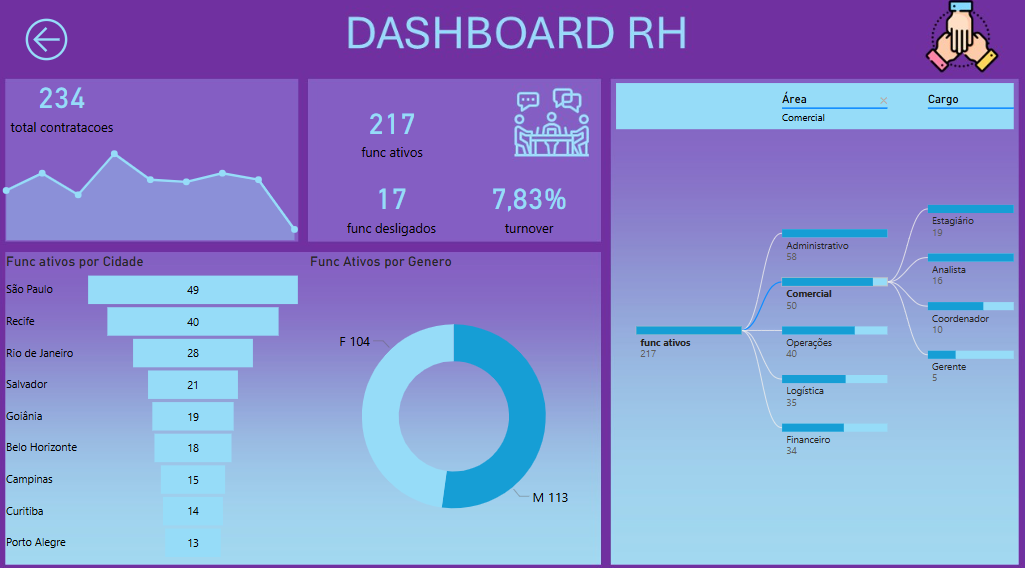

The page's visual inventory and layout, read from the dashboard file:
{"tool":"powerbi","page":{"name":"Dashboard","canvas":[1280,720],"ordinal":0},"visuals":[{"type":"card","fields":{"Values":["medidas.total contratacoes"]},"box":[10.3,90,147.8,93.8],"z":0},{"type":"card","fields":{"Values":["medidas.func ativos"]},"box":[372.5,107.1,237,121.9],"z":1},{"type":"card","fields":{"Values":["medidas.func desligados"]},"box":[385.5,214.6,210.8,93.8],"z":2},{"type":"card","fields":{"Values":["medidas.turnover"]},"box":[580.9,217.2,158.1,88.7],"z":3},{"type":"stackedAreaChart","fields":{"Category":["Plan1.Data de Contratacao.Variation.Hierarquia de datas.Ano"],"Y":["medidas.total contratacoes"]},"box":[0,179.9,386,131],"z":4},{"type":"funnel","title":"Func ativos por Cidade","fields":{"Category":["Plan1.Cidade"],"Y":["medidas.func ativos"]},"box":[10.3,321.3,375.3,384.3],"z":5},{"type":"donutChart","title":"Func Ativos por Genero","fields":{"Category":["Plan1.Genero"],"Y":["medidas.func ativos"]},"box":[385.5,321.3,365,384.3],"z":6},{"type":"decompositionTreeVisual","fields":{"Analyze":["medidas.func ativos"],"ExplainBy":["Plan1.Área","Plan1.Cargo"]},"box":[763.4,106.7,501.2,598.9],"z":7}]}

Visuals, with their boxes in screenshot pixels (x1, y1, x2, y2), scaled from the page's 1280x720 canvas onto the 1025x568 screenshot:
card - medidas.total contratacoes: select_region(8, 71, 127, 145)
card - medidas.func ativos: select_region(298, 84, 488, 181)
card - medidas.func desligados: select_region(309, 169, 478, 243)
card - medidas.turnover: select_region(465, 171, 592, 241)
stackedAreaChart - Plan1.Data de Contratacao.Variation.Hierarquia de datas.Ano x medidas.total contratacoes: select_region(0, 142, 309, 245)
"Func ativos por Cidade" funnel: select_region(8, 253, 309, 557)
"Func Ativos por Genero" donutChart: select_region(309, 253, 601, 557)
decompositionTreeVisual - medidas.func ativos x Plan1.Área: select_region(611, 84, 1013, 557)
